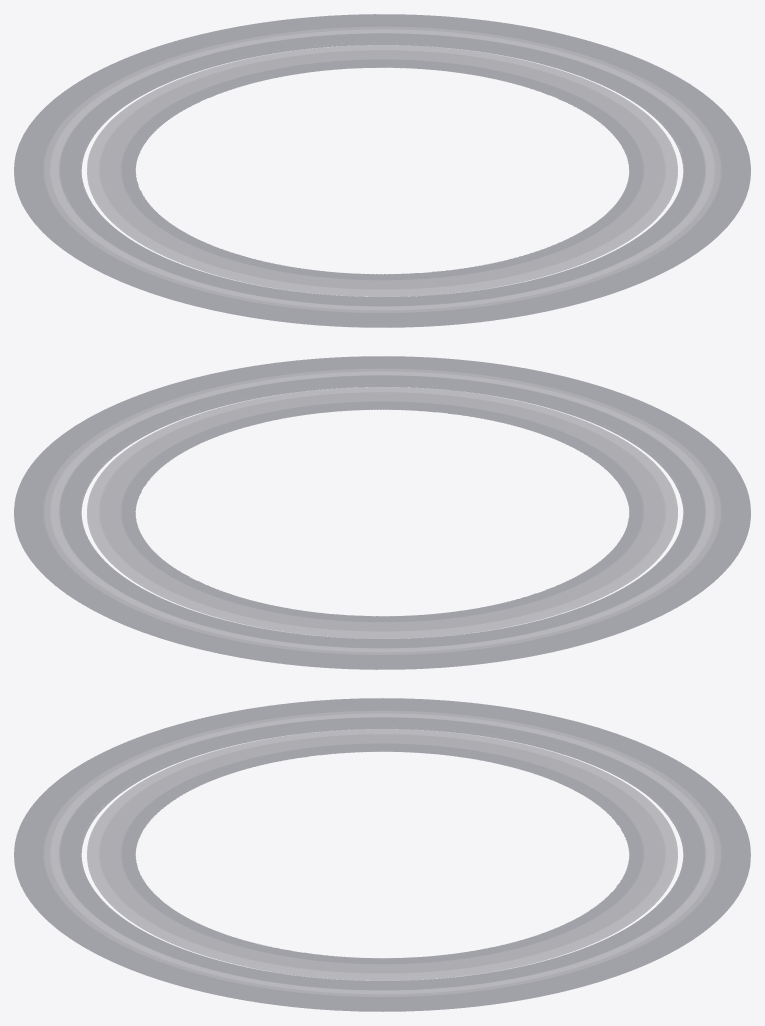
The model's file is Ring_space.fbx.
3 renders of one model, top to bottom at view 1: azimuth 30°, elevation 25°; view 2: azimuth 150°, elevation 25°; view 3: azimuth 270°, elevation 25°, orthographic.
Visible parts, largest first — view 1: Ring001; view 2: Ring001; view 3: Ring001.
Boxes of the visible parts, x1,y1,x2,y2 form: Ring001: (14,14,750,327); Ring001: (14,356,750,669); Ring001: (14,698,750,1011).
Bounding box in the file's own units: 1181 × 3.94 × 1181.
